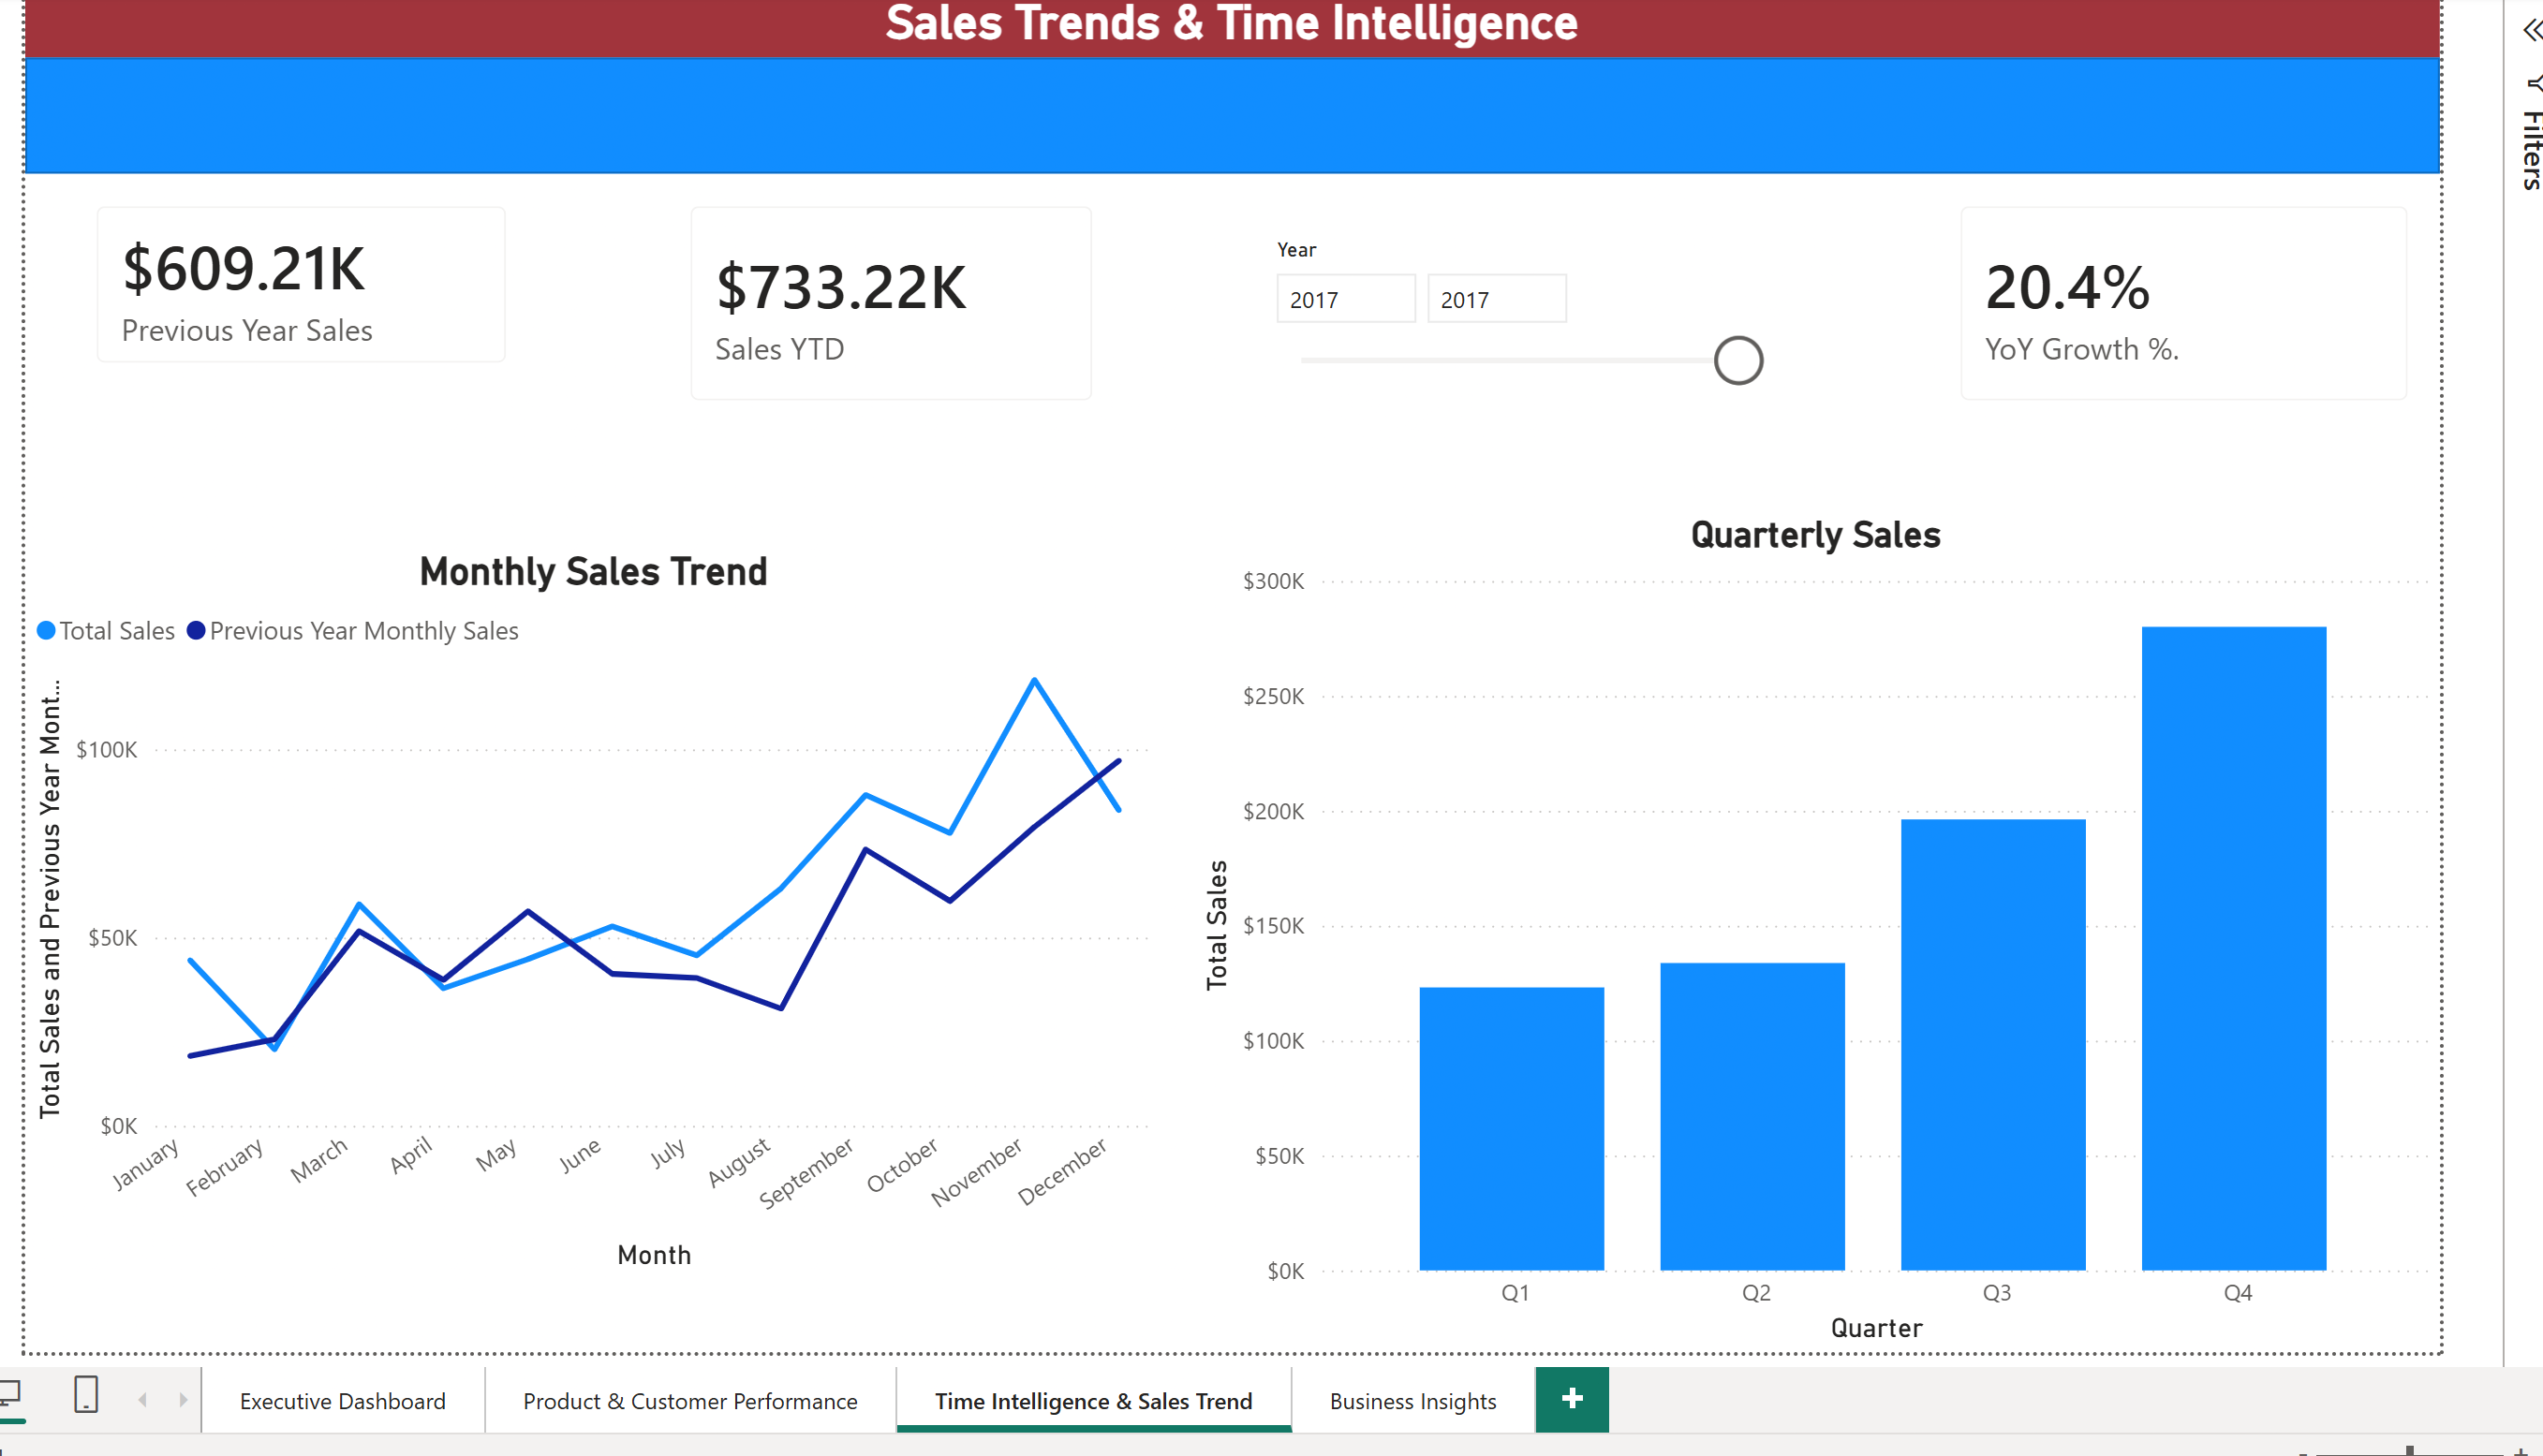

The page's visual inventory and layout, read from the dashboard file:
{"tool":"powerbi","page":{"name":"Time Intelligence & Sales Trend","canvas":[1280,720],"ordinal":2},"visuals":[{"type":"lineChart","title":"Monthly Sales Trend","fields":{"Category":["Date Table.Month"],"Y":["Sales Data.Total Sales","Date Table.Previous Year Monthly Sales"]},"box":[0,293.5,602.7,387.4],"z":0},{"type":"slicer","fields":{"Values":["Date Table.Year"]},"box":[650.8,123.9,279.1,108.3],"z":1000},{"type":"clusteredColumnChart","title":"Quarterly Sales","fields":{"Category":["Date Table.Quarter"],"Y":["Sales Data.Total Sales"]},"box":[618.3,275.5,661.7,445.1],"z":2000},{"type":"cardVisual","fields":{"Data":["Date Table.Previous Year Sales 2"]},"box":[20.5,95,251.4,117.9],"z":3000},{"type":"cardVisual","fields":{"Data":["Date Table.YoY Growth %."]},"box":[1009.3,95,271.9,137.1],"z":4000},{"type":"cardVisual","fields":{"Data":["Date Table.Sales YTD"]},"box":[335.6,95,247.8,137.1],"z":5000},{"type":"shape","title":"Sales Trends & Time Intelligence ","box":[0,0,1280,95],"z":5001}]}

Visuals, with their boxes on the page's 1280x720 design canvas (x1, y1, x2, y2). These are canvas units, not pixel positions in the 2543x1456 screenshot, which may show the page scaled, cropped or inside an application window:
"Monthly Sales Trend" lineChart: left=0, top=294, right=603, bottom=681
slicer - Date Table.Year: left=651, top=124, right=930, bottom=232
"Quarterly Sales" clusteredColumnChart: left=618, top=276, right=1280, bottom=721
cardVisual - Date Table.Previous Year Sales 2: left=20, top=95, right=272, bottom=213
cardVisual - Date Table.YoY Growth %.: left=1009, top=95, right=1281, bottom=232
cardVisual - Date Table.Sales YTD: left=336, top=95, right=583, bottom=232
"Sales Trends & Time Intelligence " shape: left=0, top=0, right=1280, bottom=95
